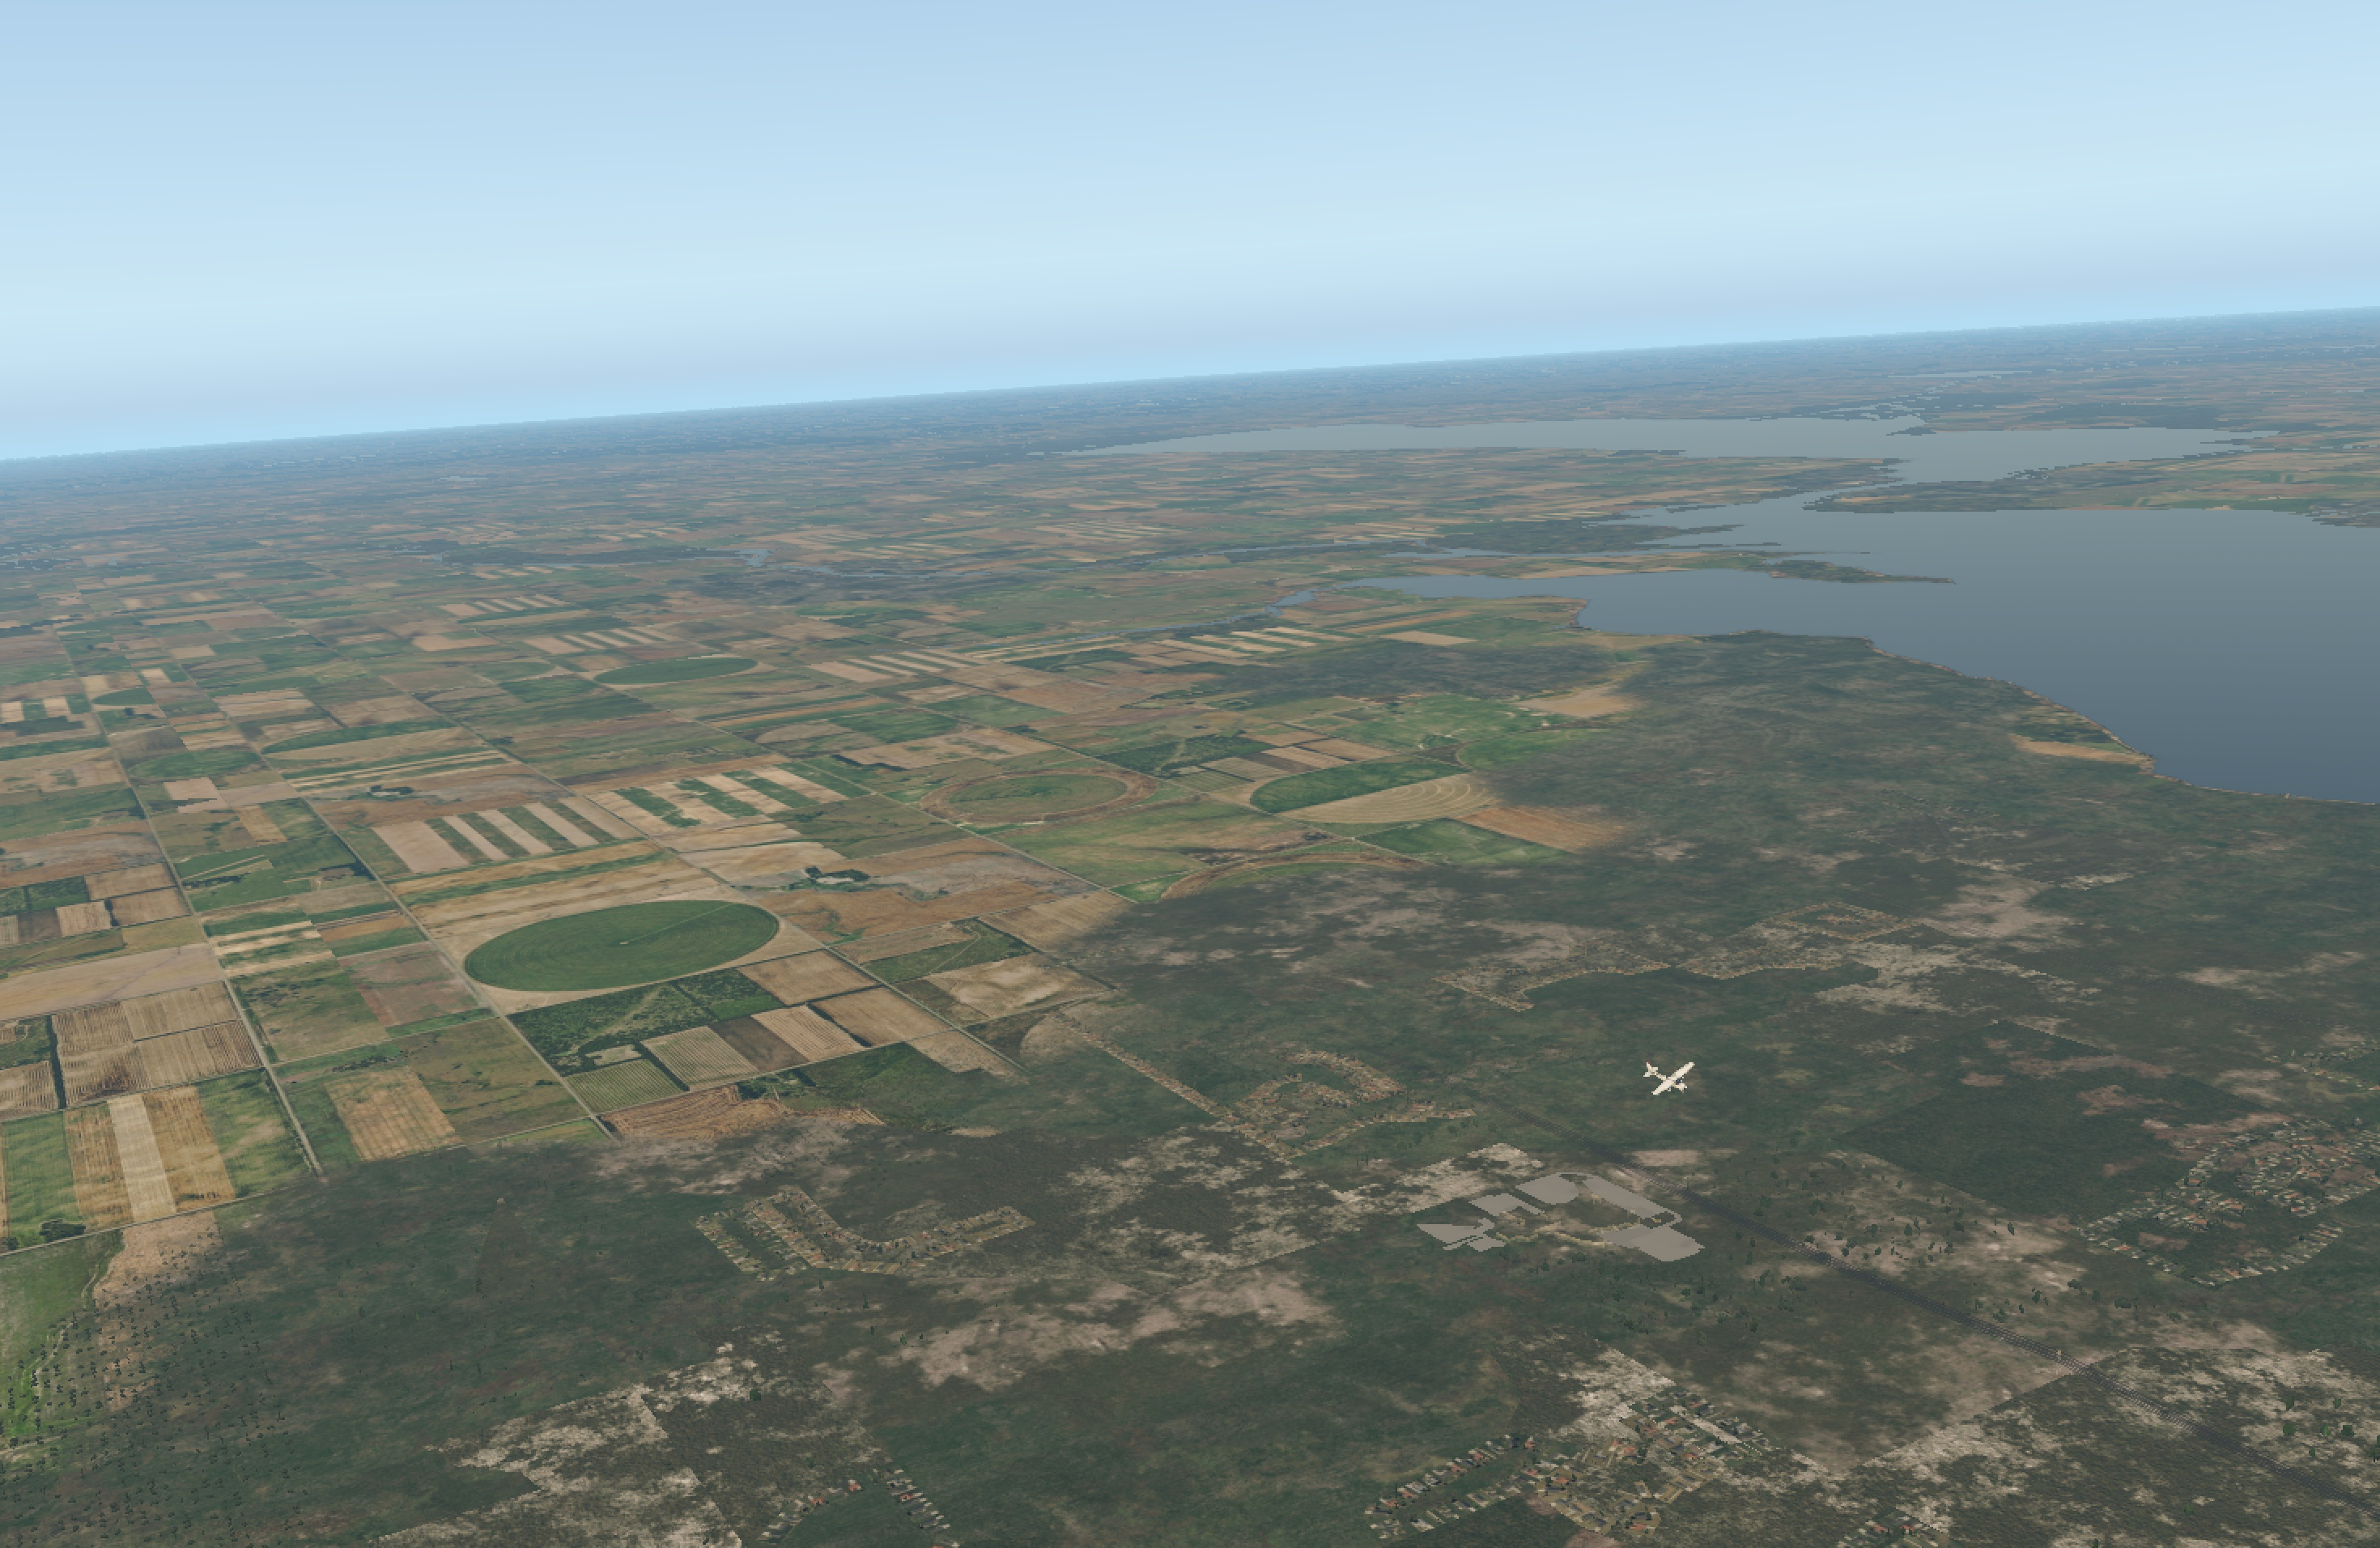aircraft: (1651, 1074, 1698, 1092)
